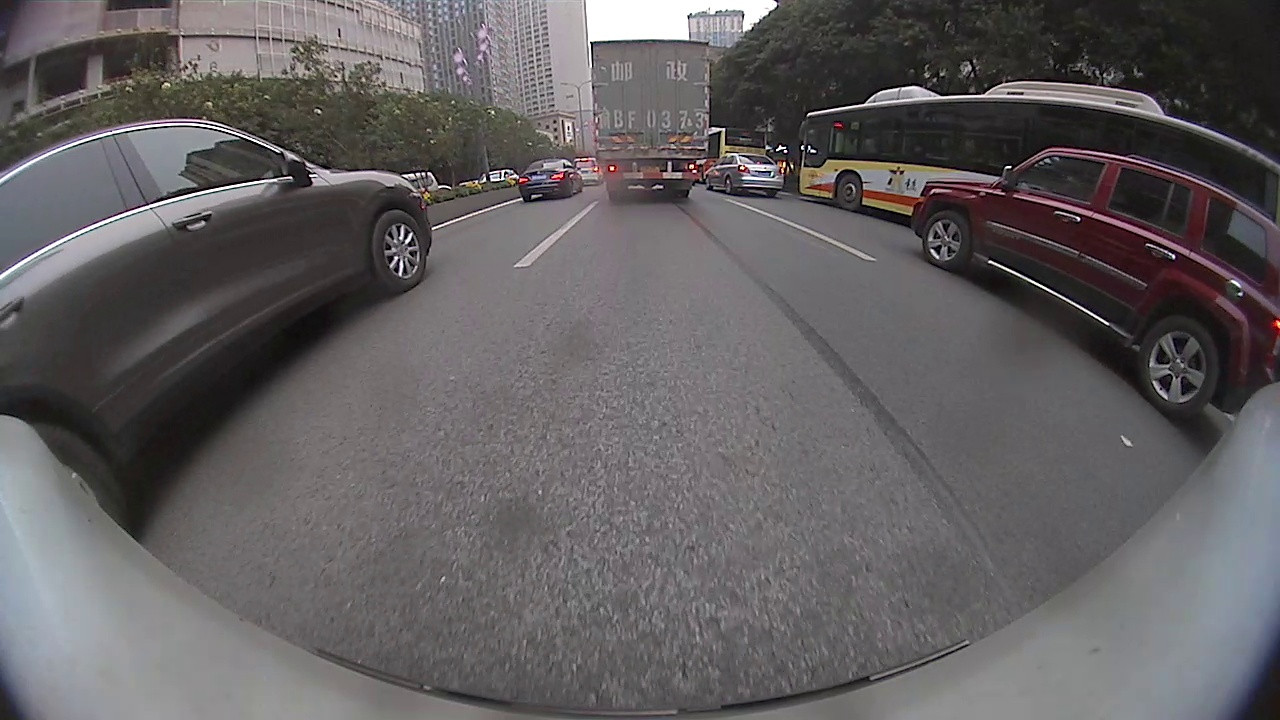bus: (797, 81, 1277, 222)
car: (0, 122, 433, 543), (910, 145, 1277, 416), (707, 155, 788, 198), (520, 158, 580, 198)
front: (371, 207, 428, 292), (921, 209, 972, 273), (836, 171, 864, 212)
rear: (1136, 316, 1221, 414), (723, 176, 733, 195)
truck: (591, 40, 714, 201)
